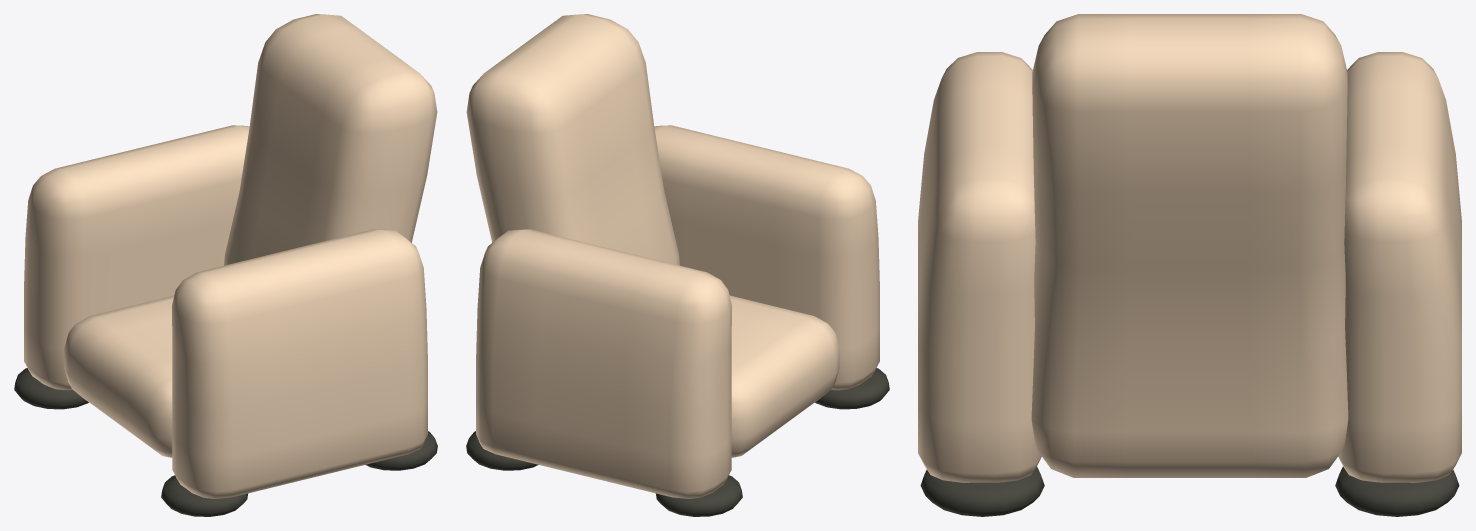
File: OT_077_081_deluxe_armchair.glb
3 renders of one model, left to right at view 1: azimuth 30°, elevation 25°; view 2: azimuth 150°, elevation 25°; view 3: azimuth 270°, elevation 25°, orthographic. The views are drawn at different scales.
Visible parts, largest first — view 1: armchair, legs; view 2: armchair, legs; view 3: armchair, legs.
Part boxes in pixels (bbox=[...]): armchair: bbox=[24, 14, 437, 498]; legs: bbox=[14, 368, 437, 516]; armchair: bbox=[466, 14, 879, 498]; legs: bbox=[466, 368, 889, 516]; armchair: bbox=[918, 14, 1461, 482]; legs: bbox=[920, 466, 1459, 516].
Bounding box in the file's own units: 1.34 × 1.5 × 1.49.
